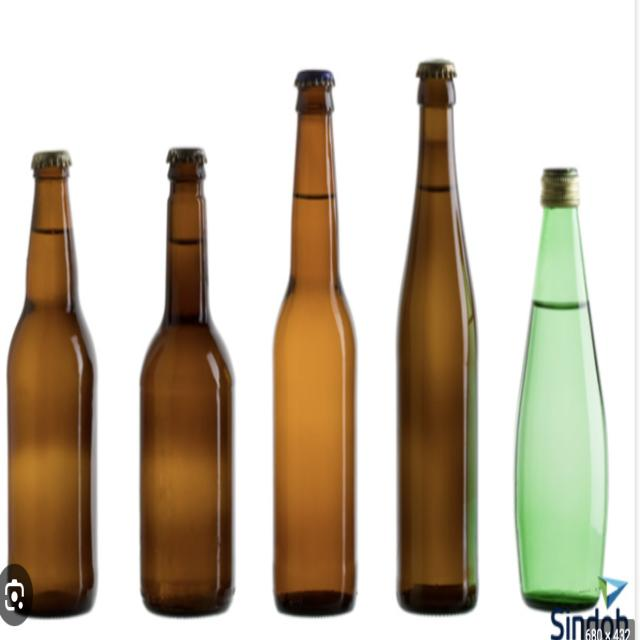recyclable: (258, 91, 374, 623), (385, 75, 492, 620), (138, 170, 240, 614), (509, 203, 613, 616)
